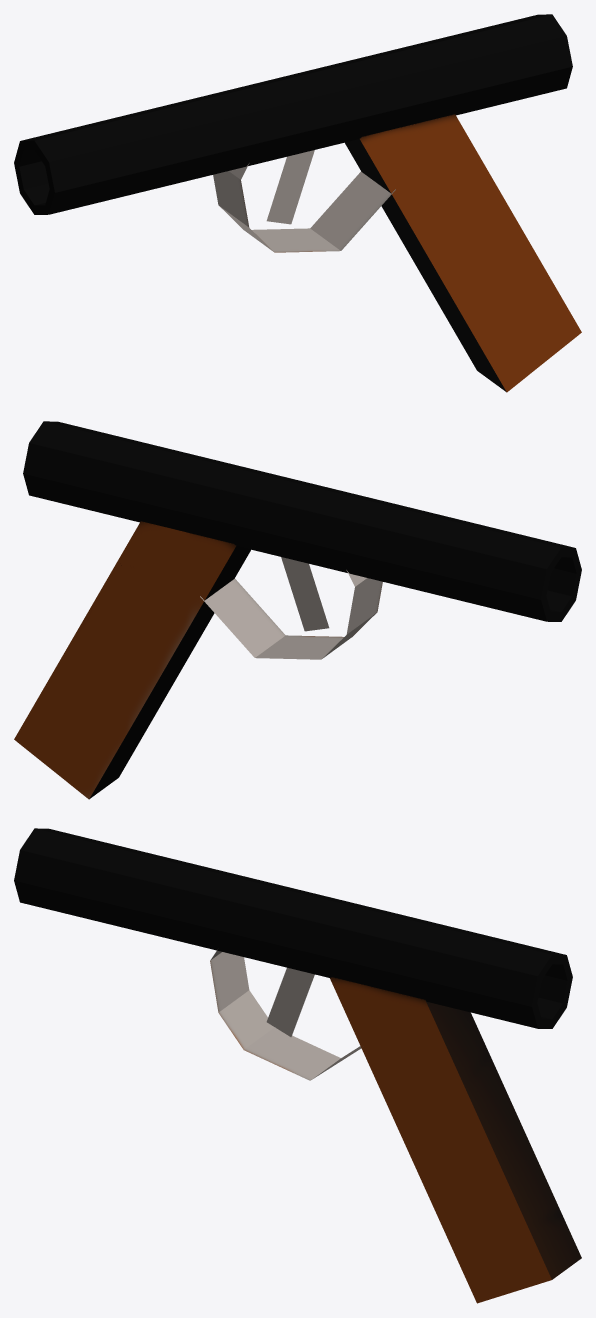
Rendered from gun.fbx.
3 renders of one model, top to bottom at view 1: azimuth 30°, elevation 25°; view 2: azimuth 150°, elevation 25°; view 3: azimuth 330°, elevation 25°, orthographic.
Visible parts, largest first — view 1: Plane; view 2: Plane; view 3: Plane.
Part boxes in pixels (x1,y1,x2,y2): Plane: [14, 14, 581, 392]; Plane: [14, 421, 581, 799]; Plane: [14, 828, 581, 1303].
Bounding box in the file's own units: 405 × 256 × 54.
1 material, 1 textured.
